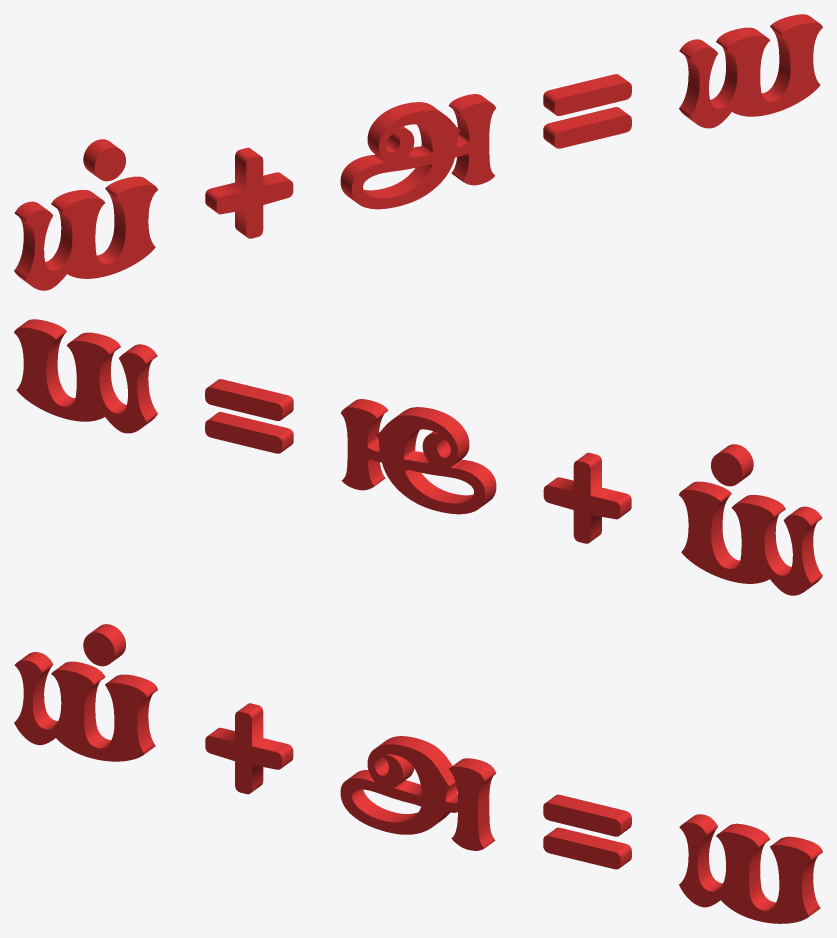
3 renders of one model, top to bottom at view 1: azimuth 30°, elevation 25°; view 2: azimuth 150°, elevation 25°; view 3: azimuth 330°, elevation 25°, orthographic.
Parts seen in each view (by area): view 1: ya; view 2: ya; view 3: ya.
Part boxes in pixels (bbox=[...]): ya: bbox=[14, 14, 822, 290]; ya: bbox=[14, 319, 822, 595]; ya: bbox=[14, 624, 822, 923].
Size of the model in its own units: 0.1764 by 0.0272 by 0.00431.
